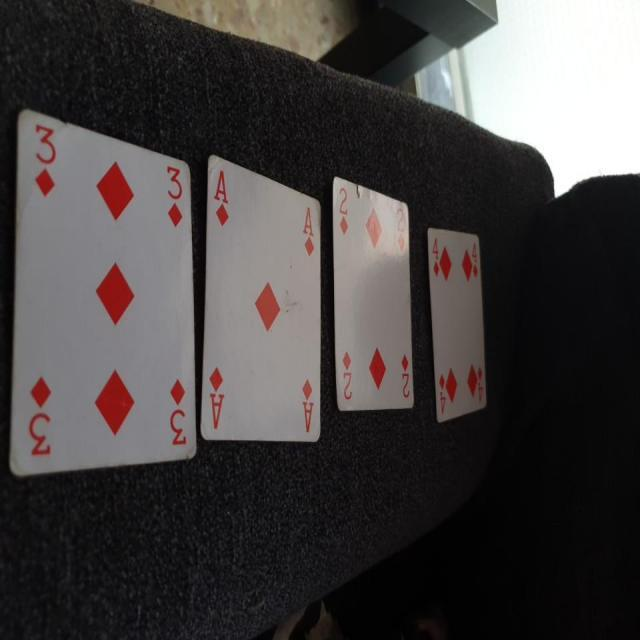2 of diamonds: (326, 172, 416, 417)
3 of diamonds: (9, 112, 197, 478)
4 of diamonds: (424, 222, 489, 424)
ace of diamonds: (194, 148, 324, 449)
